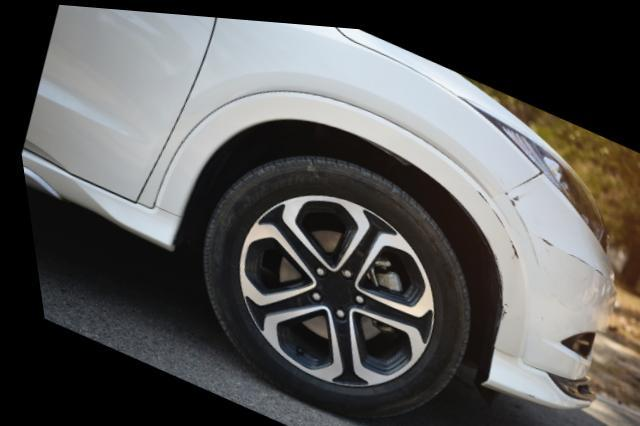scratch: (482, 182, 598, 304)
